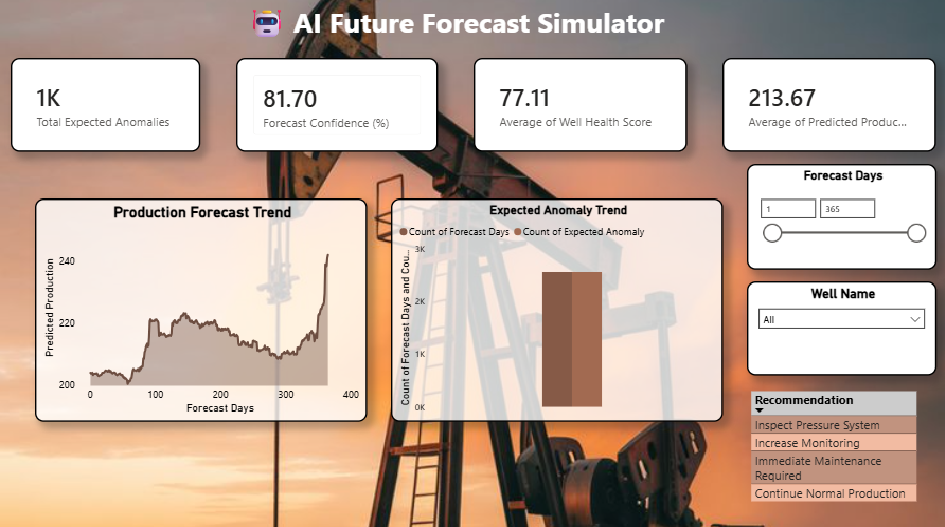

The dashboard page shown, as its layout file describes it:
{"tool":"powerbi","page":{"name":"Page 6","canvas":[1280,720],"ordinal":5},"visuals":[{"type":"textbox","box":[208,0,816,80],"z":0},{"type":"slicer","title":"Forecast Days","fields":{"Values":["future_forecast.Forecast Days"]},"box":[1008,224,256,144],"z":1000},{"type":"slicer","title":"Well Name","fields":{"Values":["future_forecast.NPD_WELL_BORE_NAME"]},"box":[1008,384,256,128],"z":2000},{"type":"cardVisual","title":"Predicted Production (Sm³/day)","fields":{"Data":["Avg(future_forecast.Predicted Production)"]},"box":[976,80,288,128],"z":3000},{"type":"cardVisual","fields":{"Data":["Avg(future_forecast.Well Health Score)"]},"box":[640,80,288,128],"z":4000},{"type":"cardVisual","fields":{"Data":["IntelliWell_Final_Report.Total Expected Anomalies"]},"box":[16,80,256,128],"z":5000},{"type":"tableEx","fields":{"Values":["future_forecast.Recommendation"]},"box":[1008,528,256,192],"z":6000},{"type":"lineChart","title":"Production Forecast Trend","fields":{"Y":["Avg(future_forecast.Predicted Production)"],"Category":["future_forecast.Forecast Days"]},"box":[48,272,448,304],"z":7000},{"type":"clusteredColumnChart","title":"Expected Anomaly Trend","fields":{"Y":["CountNonNull(future_forecast.Forecast Days)","CountNonNull(future_forecast.Expected Anomaly)"]},"box":[528,272,448,304],"z":8000},{"type":"cardVisual","title":"Forecast Confidence","fields":{"Data":["Avg(future_forecast.Forecast Confidence (%))"]},"box":[320,80,272,128],"z":9000}]}

Visuals, with their boxes in screenshot pixels (x1, y1, x2, y2), scaled from the page's 1280x720 canvas onto the 945x527 screenshot:
textbox: 154,0,756,59
"Forecast Days" slicer: 744,164,933,269
"Well Name" slicer: 744,281,933,375
"Predicted Production (Sm³/day)" cardVisual: 721,59,933,152
cardVisual - Avg(future_forecast.Well Health Score): 472,59,685,152
cardVisual - IntelliWell_Final_Report.Total Expected Anomalies: 12,59,201,152
tableEx - future_forecast.Recommendation: 744,386,933,526
"Production Forecast Trend" lineChart: 35,199,366,422
"Expected Anomaly Trend" clusteredColumnChart: 390,199,721,422
"Forecast Confidence" cardVisual: 236,59,437,152
